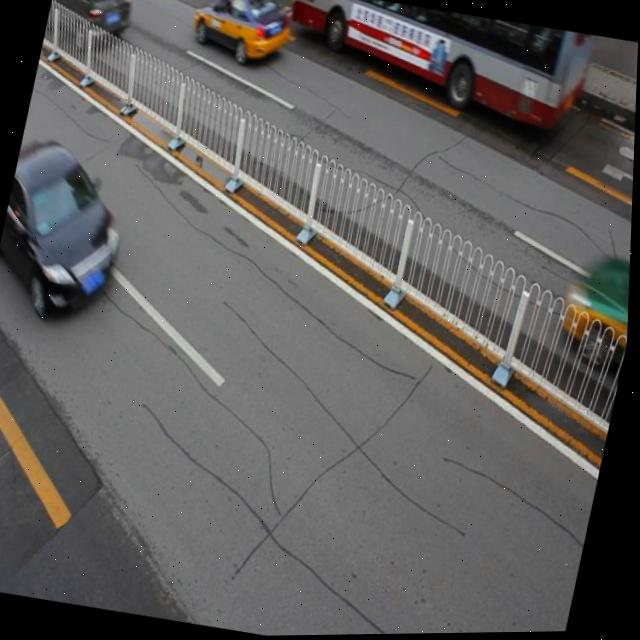car: (0, 130, 141, 314), (556, 245, 633, 376), (187, 0, 297, 71)
truck: (44, 0, 139, 48)
van: (272, 0, 595, 132)
